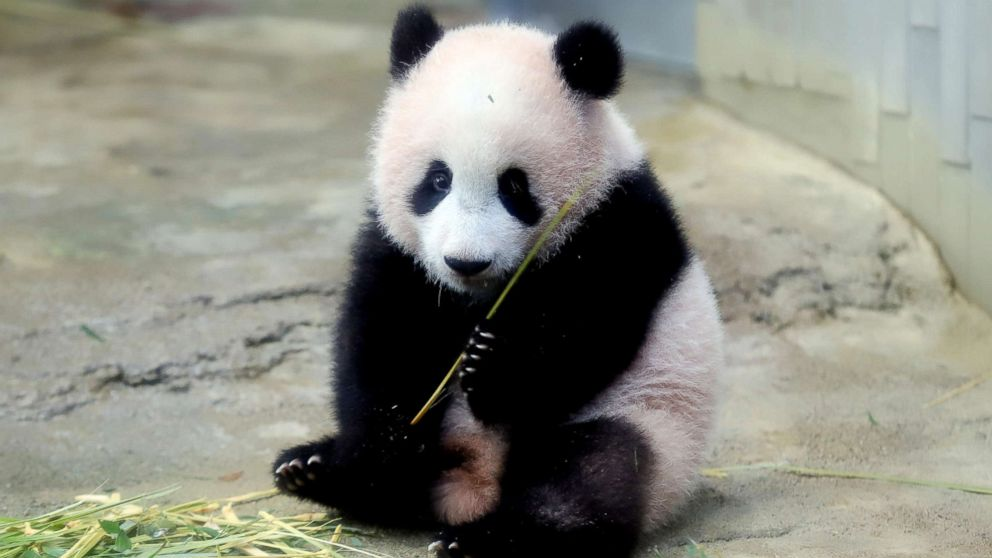panda: (324, 24, 739, 558)
